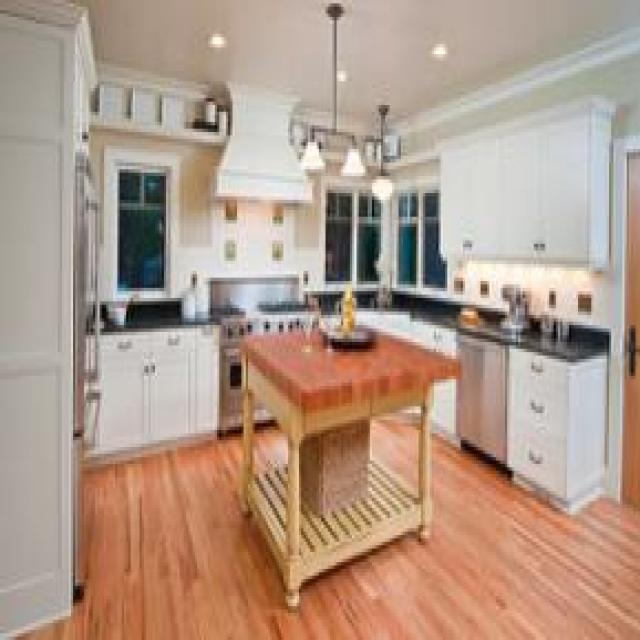dishwasher: (456, 328, 505, 464)
